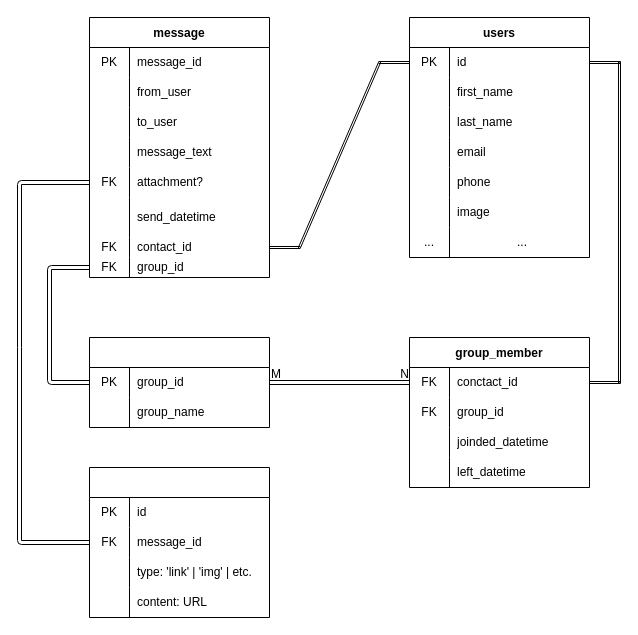
Some shapes in this 638 by 635 pixel diagram are drawn without their labels. Each missing label, with the box of its shape:
attachment: (88, 466, 270, 618)
message_group: (88, 336, 270, 428)
